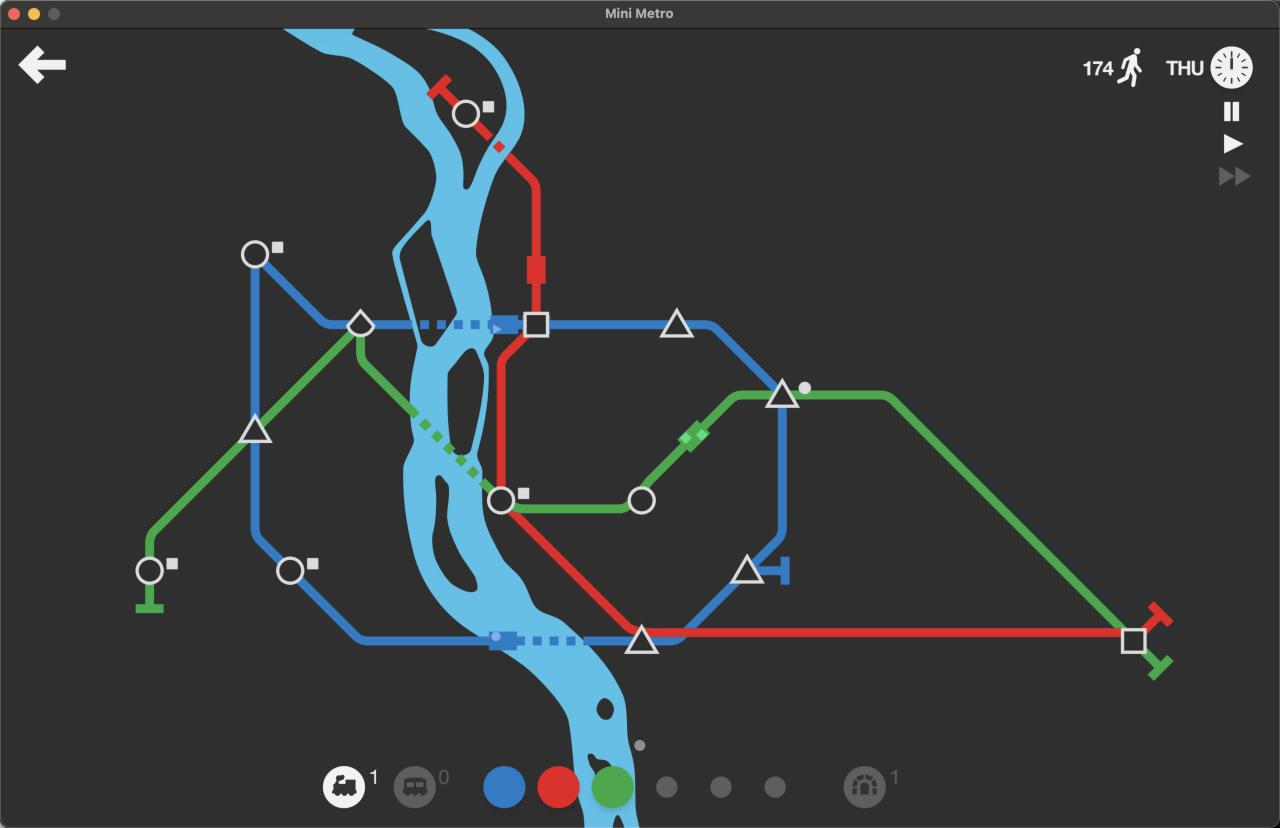CIRCLE: (134, 556, 165, 586), (627, 485, 657, 516), (451, 98, 481, 128), (240, 239, 270, 269), (486, 485, 516, 515), (275, 556, 305, 586)
SQUARE: (522, 310, 550, 338), (1121, 627, 1147, 654)
TRIANGLE: (237, 412, 274, 445), (624, 623, 660, 656), (731, 553, 766, 586), (659, 307, 695, 339), (765, 378, 799, 409)
WEDGE: (345, 309, 376, 338)
